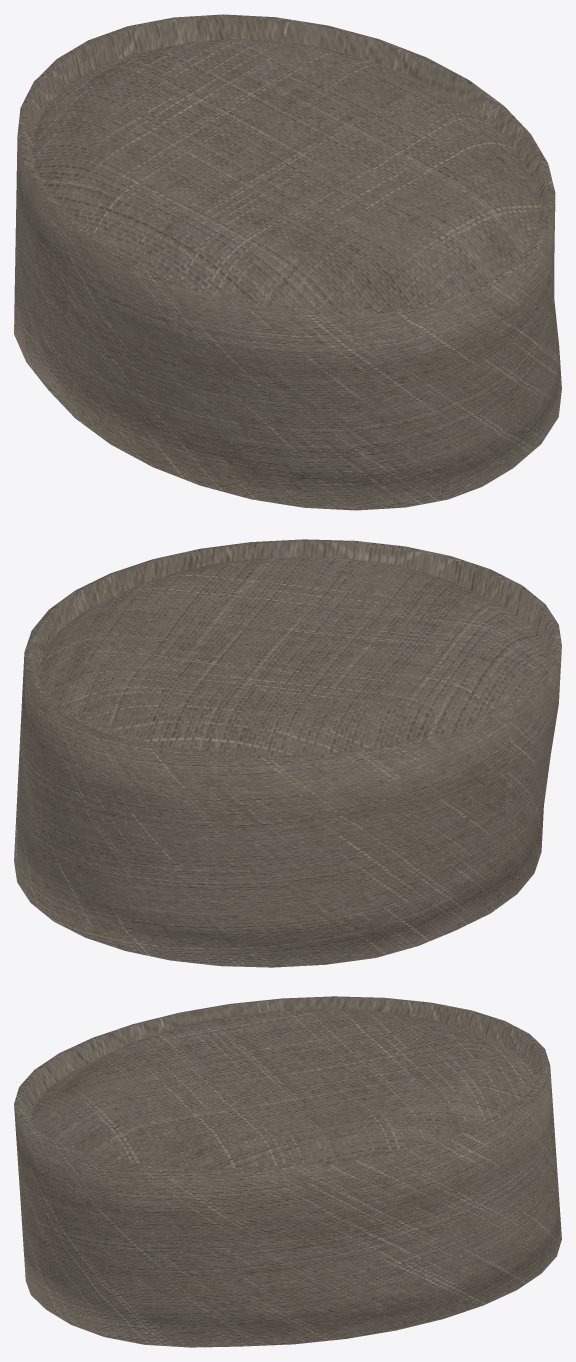
The model's file is peci.glb.
The picture shows the model from 3 angles, top to bottom: view 1: azimuth 30°, elevation 25°; view 2: azimuth 150°, elevation 25°; view 3: azimuth 270°, elevation 25°; orthographic projection. The views are drawn at different scales.
Visible parts, largest first — view 1: Cylinder; view 2: Cylinder; view 3: Cylinder.
Part boxes in pixels (x1,y1,x2,y2): Cylinder: (14, 14, 561, 510); Cylinder: (14, 539, 561, 967); Cylinder: (14, 996, 561, 1347).
Bounding box in the file's own units: 1.3 × 0.7244 × 1.66.
1 material, 1 textured.
